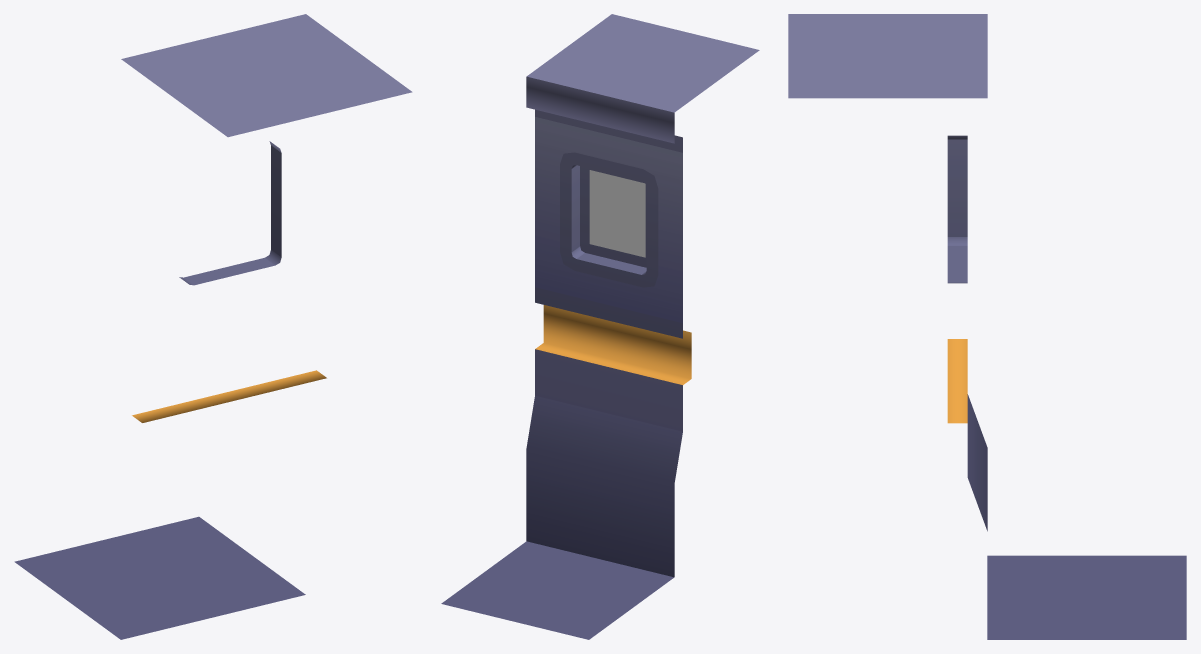
The model's file is kenney-conveyor-structure-window.glb.
3 renders of one model, left to right at view 1: azimuth 30°, elevation 25°; view 2: azimuth 150°, elevation 25°; view 3: azimuth 270°, elevation 25°, orthographic. The views are drawn at different scales.
Visible parts, largest first — view 1: structure-window; view 2: structure-window; view 3: structure-window.
Boxes of the visible parts, <box> form: structure-window: <box>14,14,412,639</box>; structure-window: <box>441,14,759,639</box>; structure-window: <box>788,14,1186,639</box>.
Size of the model in its own units: 0.9999 by 3 by 2.
Materials: 1 (1 with a texture image).
